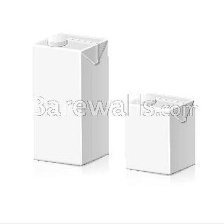carton: (26, 28, 112, 169), (120, 85, 200, 177)
